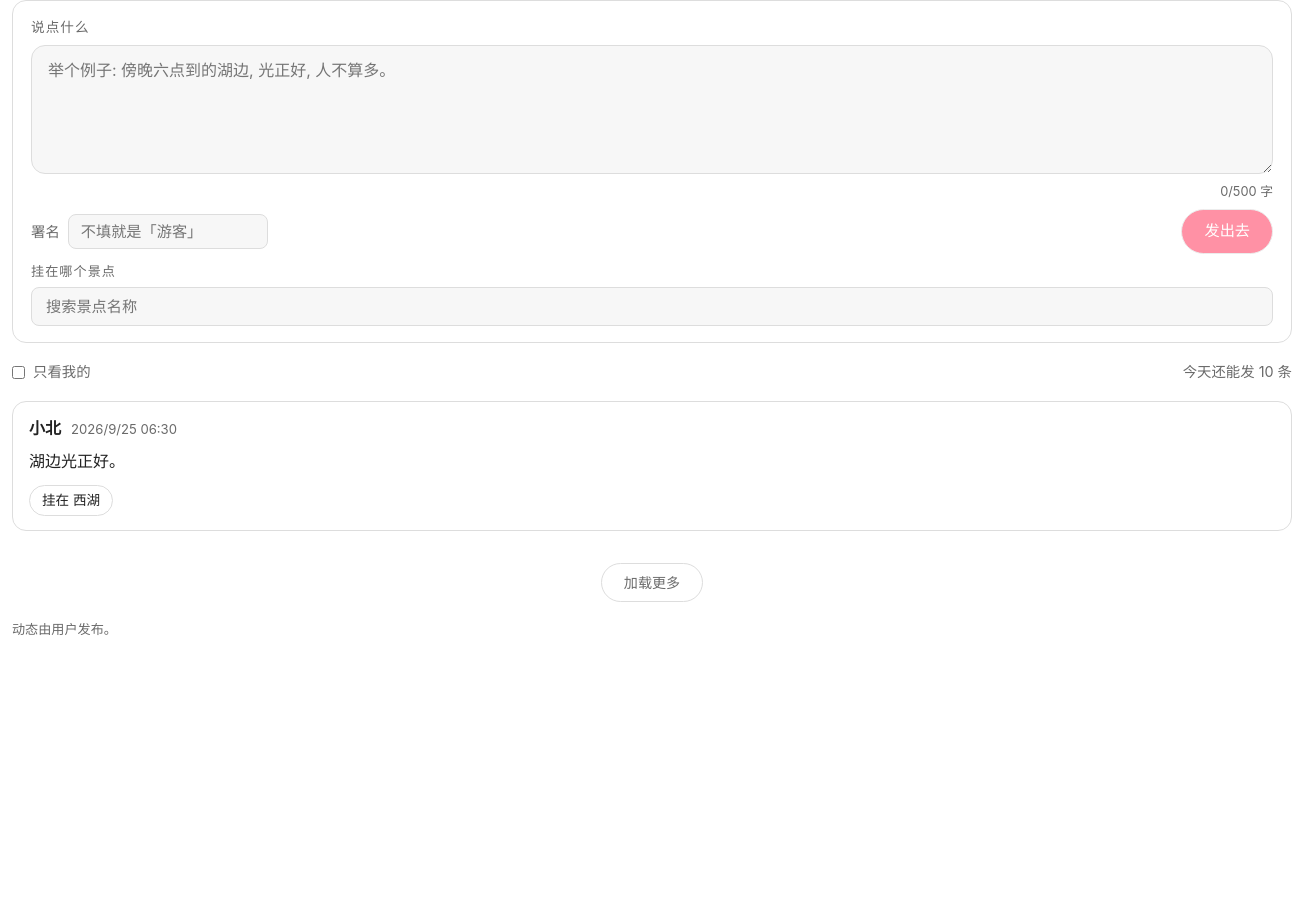
PostsPage › 还有更旧的时候才给「加载更多」, 翻到底就说一句没有更多了
The image size is (1304, 900).
Expected: the text "湖边光正好。" is shown, [29,451,125,471]
What coordinates should you click on to do the following:
click the button "加载更多"
I would click on:
 (652, 582)
Its box is [601,563,703,602].
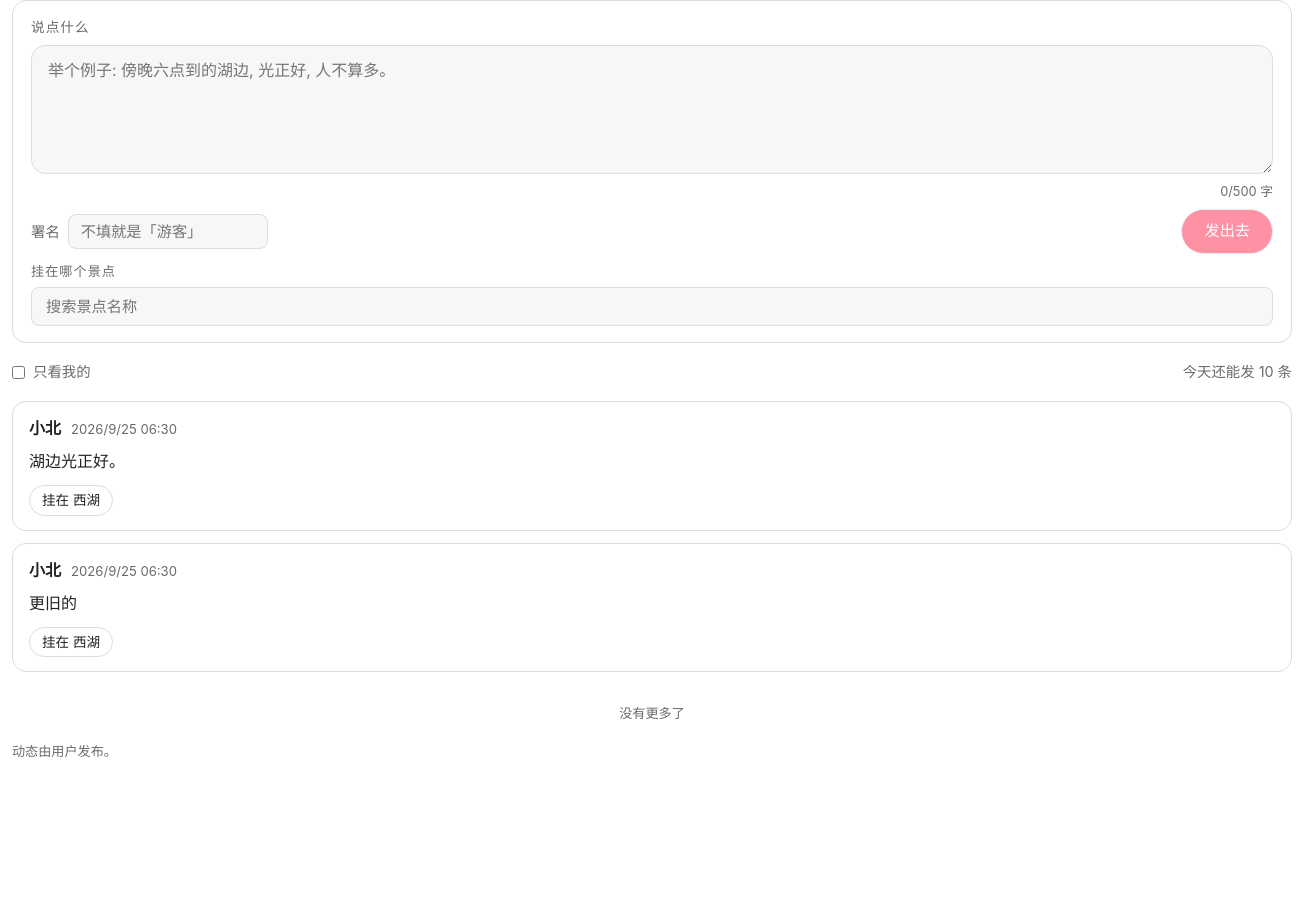
Expected: the text "更旧的" is shown, [29,593,77,613]
Expected: the button "加载更多" is gone
Expected: the text "没有更多了" is shown, [619,705,685,721]
